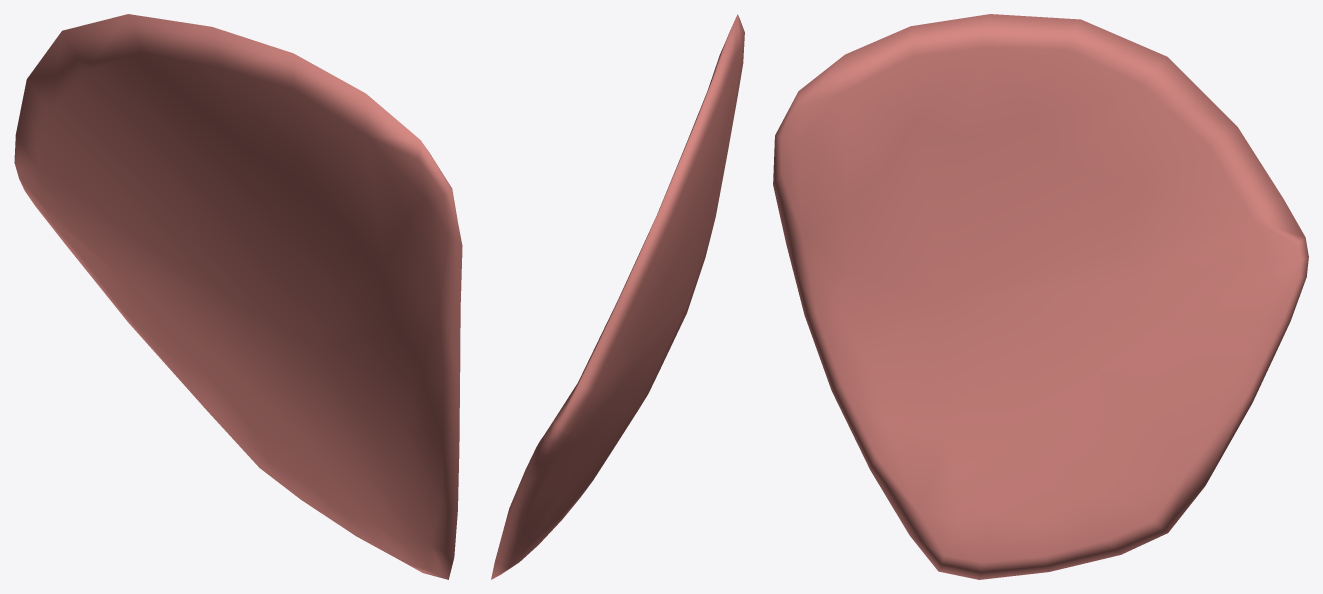
The picture shows the model from 3 angles, left to right: view 1: azimuth 30°, elevation 25°; view 2: azimuth 150°, elevation 25°; view 3: azimuth 270°, elevation 25°; orthographic projection. The views are drawn at different scales.
Parts seen in each view (by area): view 1: ZA_d4c728202c11c898; view 2: ZA_d4c728202c11c898; view 3: ZA_d4c728202c11c898.
Part boxes in pixels (left/top/right/bottom): ZA_d4c728202c11c898: left=14, top=14, right=462, bottom=579; ZA_d4c728202c11c898: left=491, top=14, right=744, bottom=579; ZA_d4c728202c11c898: left=773, top=14, right=1308, bottom=579.
Size of the model in its own units: 0.0054 by 0.0124 by 0.0124.
